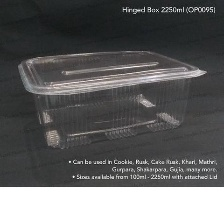plastic_box: (11, 41, 213, 154)
